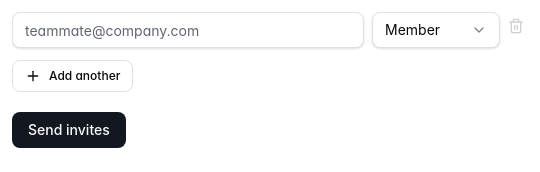
Test: DynamicFieldArrayForm › submits valid rows and shows a success message
Type "teammate@acme.io" into the field named "Email 1" at (188, 30), box [12, 12, 364, 48]
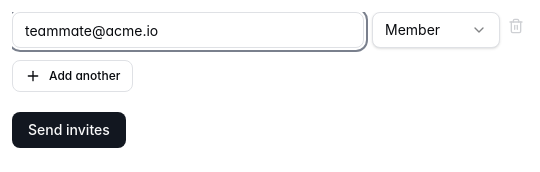
Click the button "Send invites" at (69, 130), box [12, 112, 126, 148]
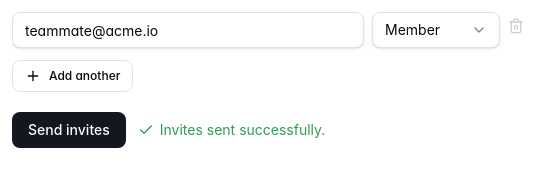
Check: the text "Invites sent successfully." is shown, box [138, 120, 325, 140]
